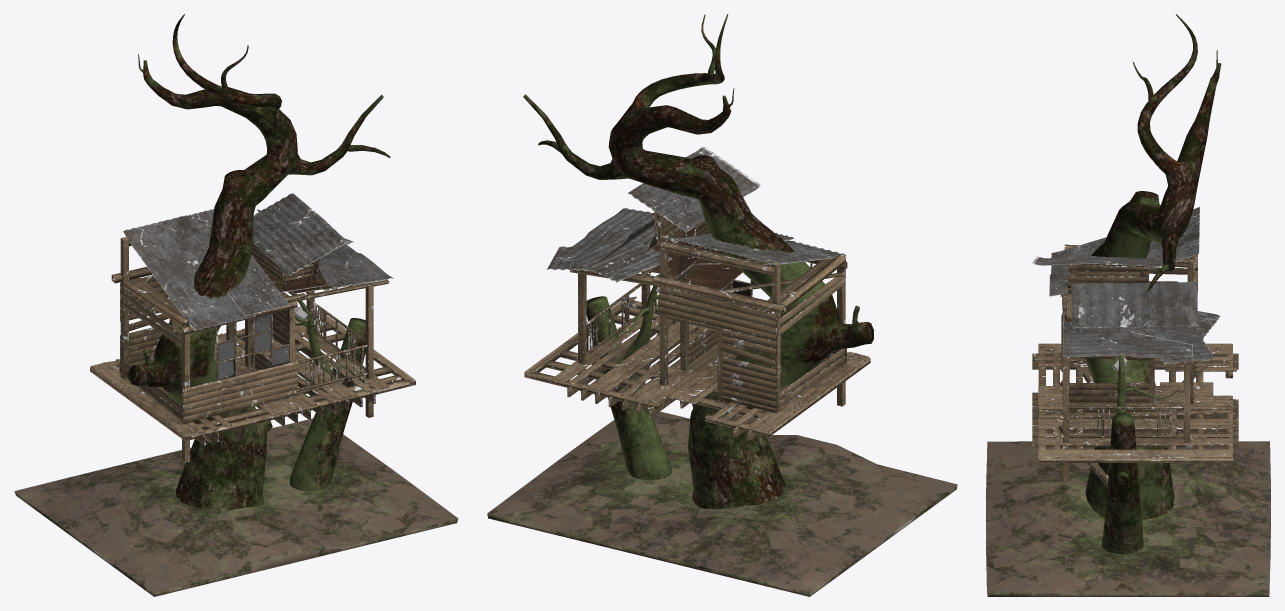
Rendered from tree_house (1).glb.
3 renders of one model, left to right at view 1: azimuth 30°, elevation 25°; view 2: azimuth 150°, elevation 25°; view 3: azimuth 270°, elevation 25°, orthographic. The views are drawn at different scales.
Parts seen in each view (by area): view 1: trees2, tree_house; view 2: trees2, tree_house; view 3: trees2, tree_house.
Part boxes in pixels (left/top/right/bottom): trees2: left=14, top=14, right=458, bottom=596; tree_house: left=90, top=193, right=415, bottom=462; trees2: left=487, top=14, right=957, bottom=596; tree_house: left=524, top=146, right=870, bottom=440; trees2: left=986, top=14, right=1270, bottom=596; tree_house: left=1032, top=207, right=1238, bottom=487.
Size of the model in its own units: 15.88 by 23.07 by 12.01.
Materials: 2 (2 with a texture image).
